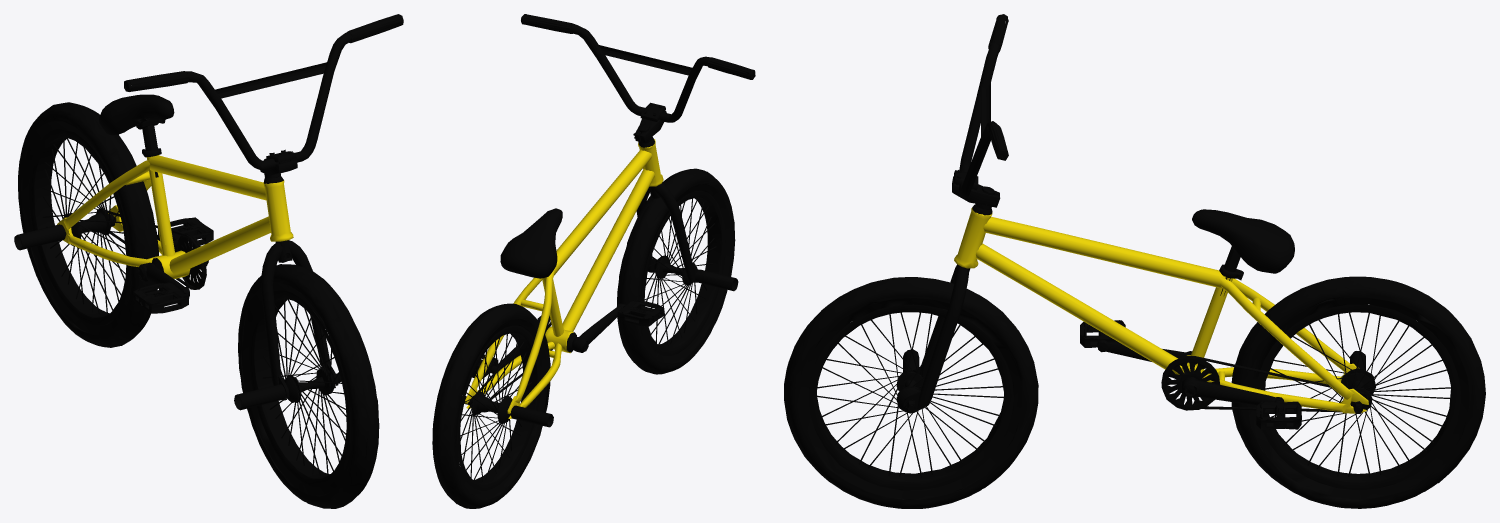
Rendered from SM_Bike.fbx.
3 views of the same model, side by side, from view 1: azimuth 30°, elevation 25°; view 2: azimuth 150°, elevation 25°; view 3: azimuth 270°, elevation 25° (orthographic). The views are drawn at different scales.
Parts seen in each view (by area): view 1: clean1; view 2: clean1; view 3: clean1.
Boxes of the visible parts, left/top/right/bottom form: clean1: left=14, top=14, right=403, bottom=508; clean1: left=432, top=14, right=755, bottom=508; clean1: left=784, top=14, right=1485, bottom=508.
Bounding box in the file's own units: 0.5225 × 0.7634 × 1.14.
